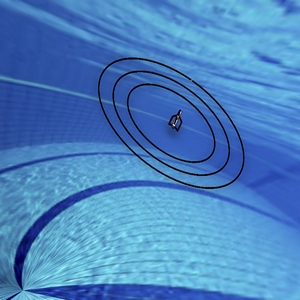circle: (88, 49, 255, 194)
submarine: (149, 98, 192, 139)
